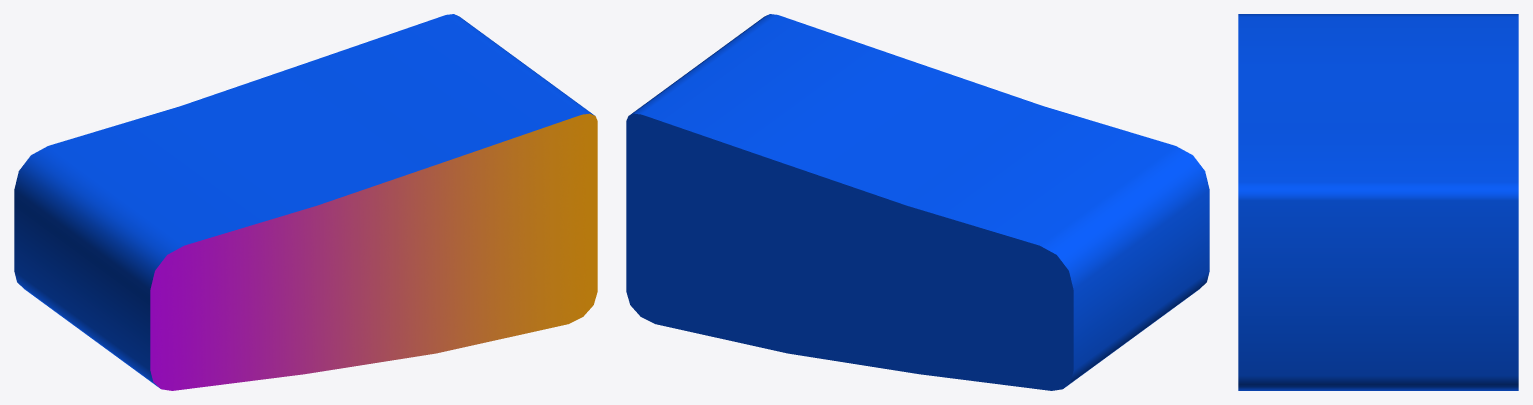
File: Minus.FBX
The picture shows the model from 3 angles, left to right: view 1: azimuth 30°, elevation 25°; view 2: azimuth 150°, elevation 25°; view 3: azimuth 270°, elevation 25°; orthographic projection. The views are drawn at different scales.
Parts seen in each view (by area): view 1: Minus; view 2: Minus; view 3: Minus.
Part boxes in pixels (x1,y1,x2,y2): Minus: [14, 14, 597, 390]; Minus: [626, 14, 1209, 390]; Minus: [1238, 14, 1518, 390].
Bounding box in the file's own units: 37.71 × 16.61 × 19.88.
Materials: 2 (1 with a texture image).
